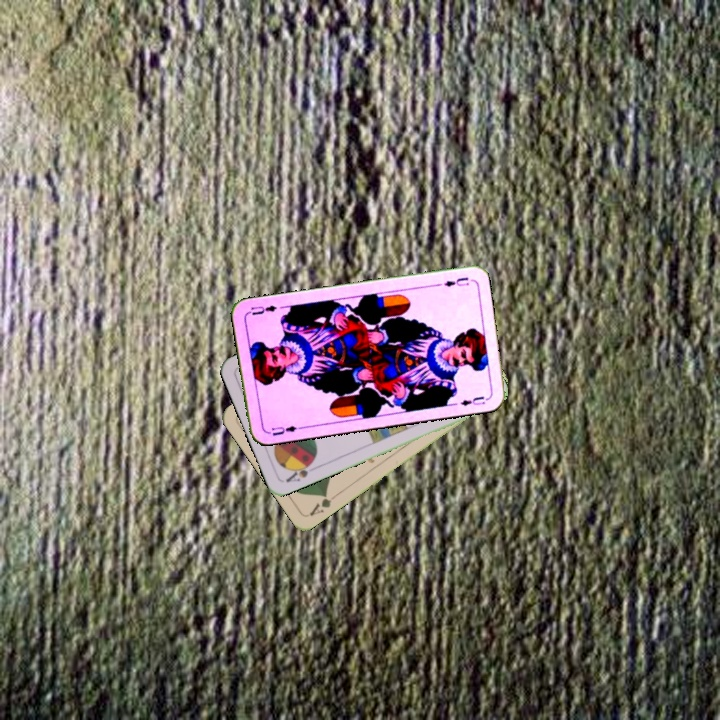EU: (268, 422, 304, 438), (440, 273, 471, 289)
GA: (305, 489, 339, 519)
SA: (282, 457, 320, 485)
